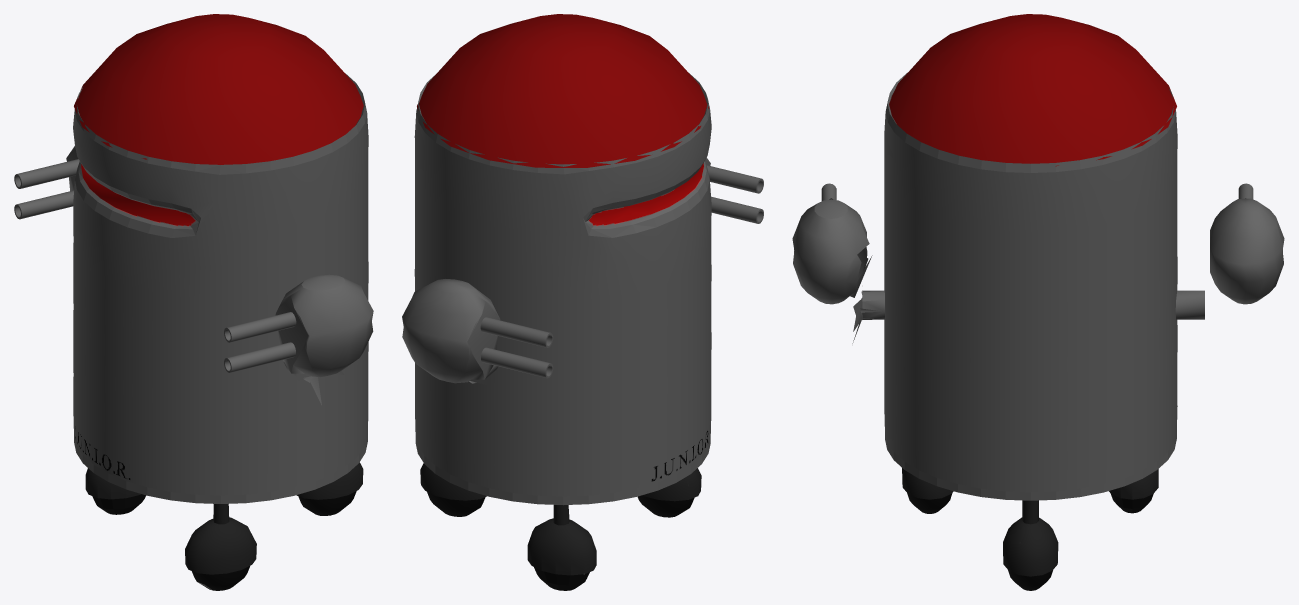
The model's file is junior_main.FBX.
The picture shows the model from 3 angles, left to right: view 1: azimuth 30°, elevation 25°; view 2: azimuth 150°, elevation 25°; view 3: azimuth 270°, elevation 25°; orthographic projection.
Visible parts, largest first — view 1: Cylinder006, gun_blaster; view 2: Cylinder006, gun_blaster; view 3: Cylinder006, gun_blaster.
Part boxes in pixels (x1=…): Cylinder006: x1=73, y1=14, x2=368, y2=590; gun_blaster: x1=14, y1=146, x2=373, y2=377; Cylinder006: x1=414, y1=14, x2=711, y2=590; gun_blaster: x1=402, y1=158, x2=763, y2=383; Cylinder006: x1=852, y1=14, x2=1204, y2=590; gun_blaster: x1=792, y1=183, x2=1284, y2=304.
Bounding box in the file's own units: 41.4 × 75.25 × 66.41.
